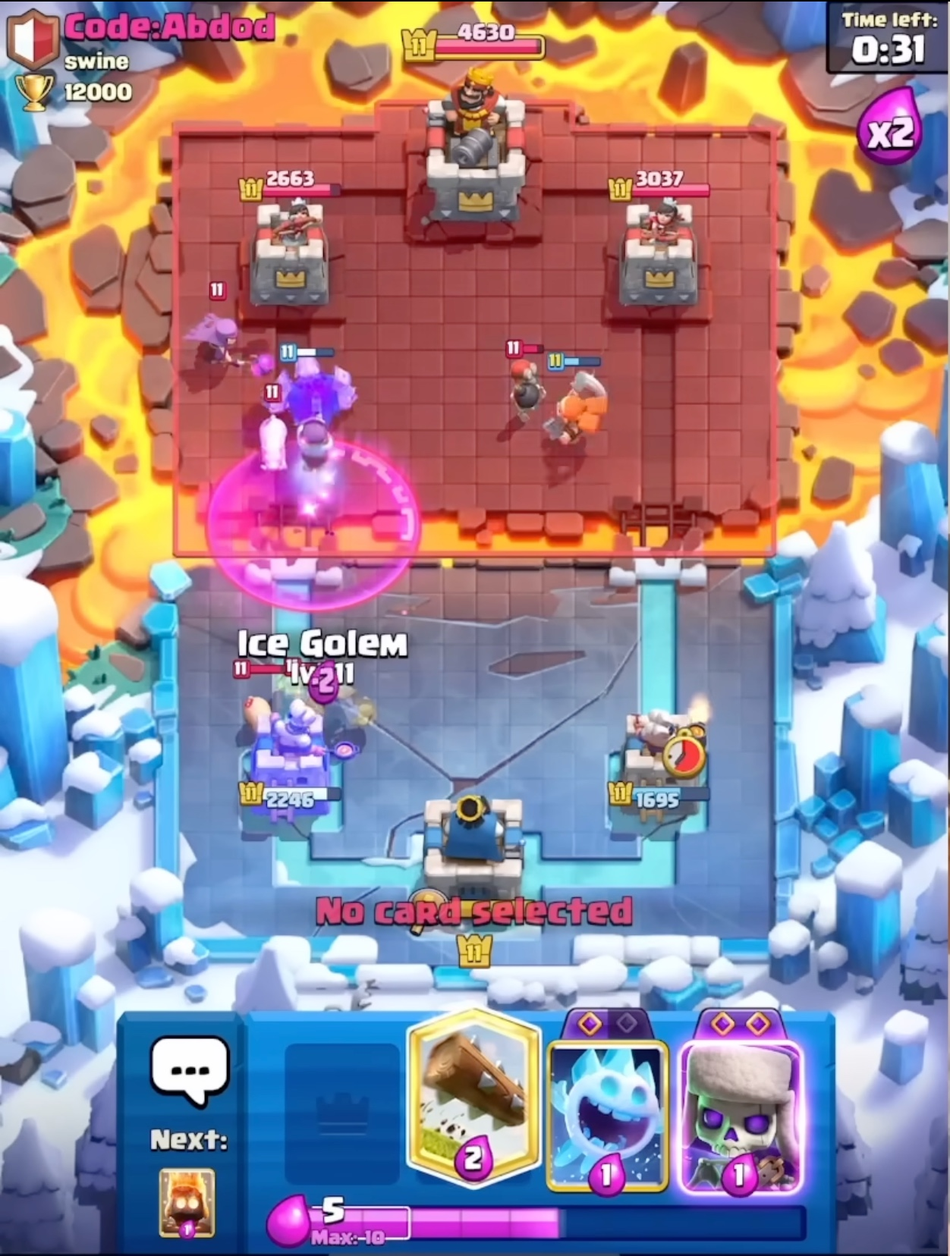hero-ice-golem: (266, 339, 365, 433)
